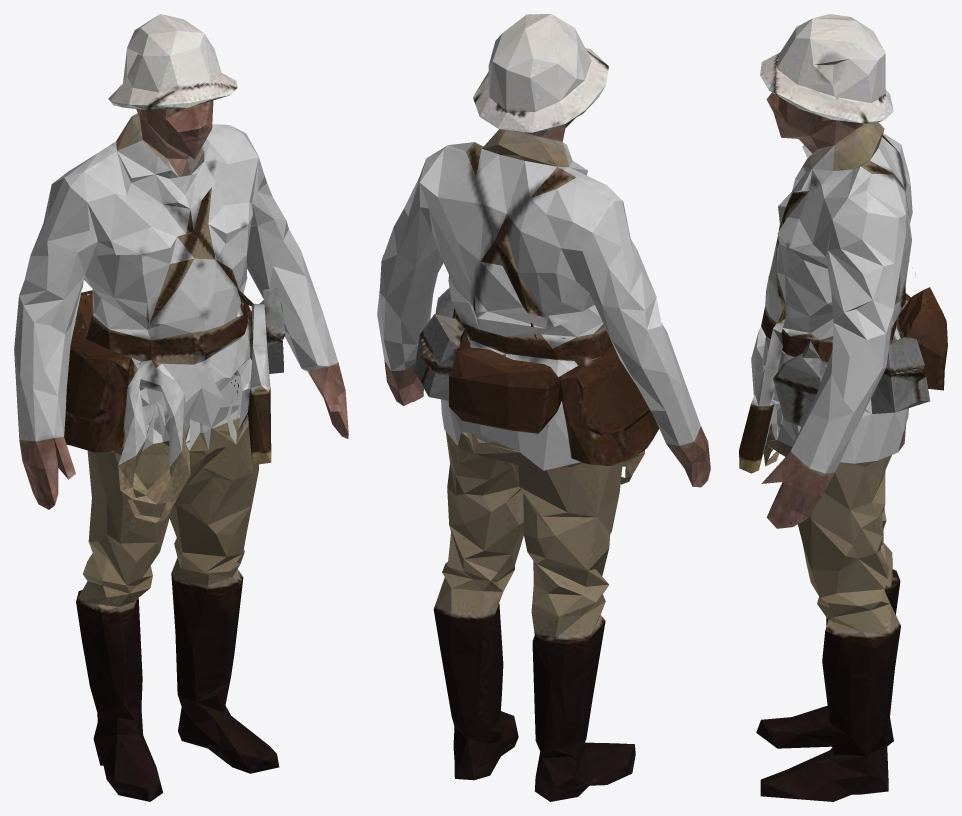
Rendered from realistic-cc0.ef91e66fecb5.explorer.glb.
3 views of the same model, side by side, from view 1: azimuth 30°, elevation 25°; view 2: azimuth 150°, elevation 25°; view 3: azimuth 270°, elevation 25° (orthographic).
Visible parts, largest first — view 1: explorer; view 2: explorer; view 3: explorer.
Part boxes in pixels (left/top/right/bottom): explorer: left=14, top=14, right=348, bottom=801; explorer: left=377, top=14, right=710, bottom=801; explorer: left=739, top=14, right=947, bottom=801.
Size of the model in its own units: 0.7909 by 1.8 by 0.4557.
Materials: 2 (2 with a texture image).
